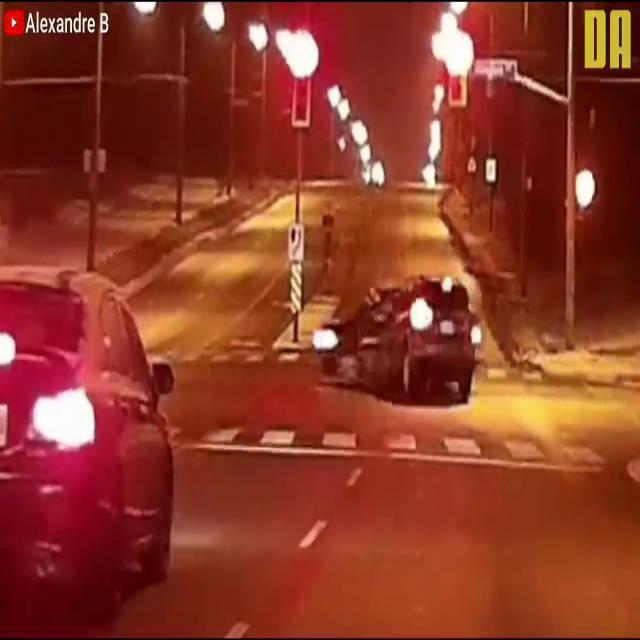accident: (311, 274, 484, 406)
